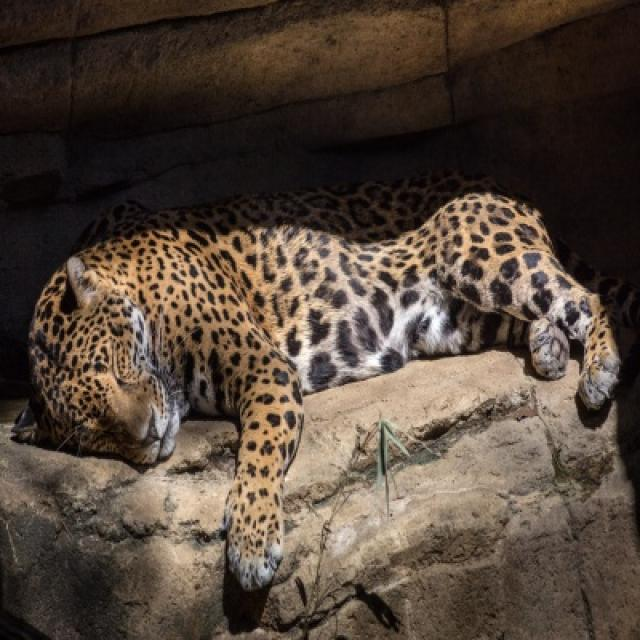Jaguar: (14, 190, 632, 635)
